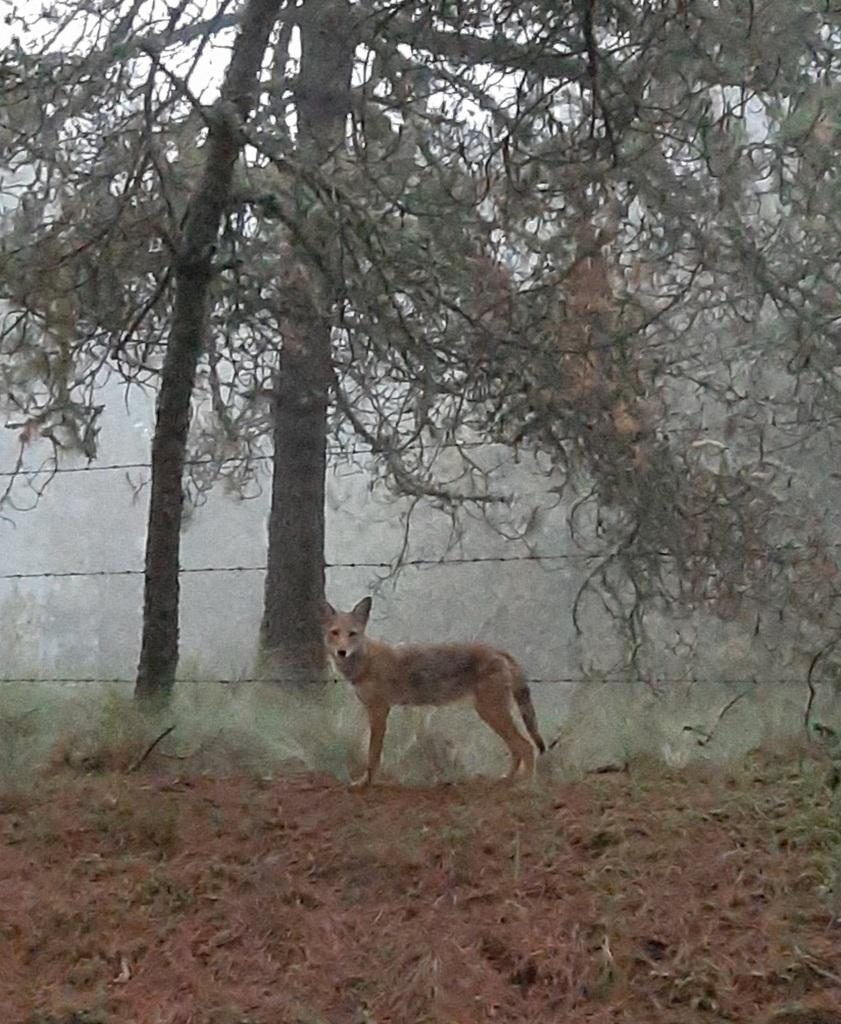Coyote: (317, 590, 550, 793)
